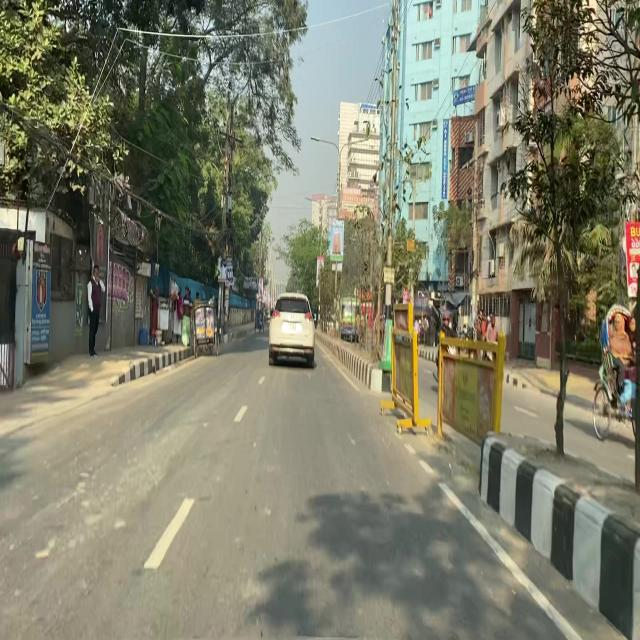car: (268, 292, 316, 369)
motorbike: (433, 311, 474, 405)
